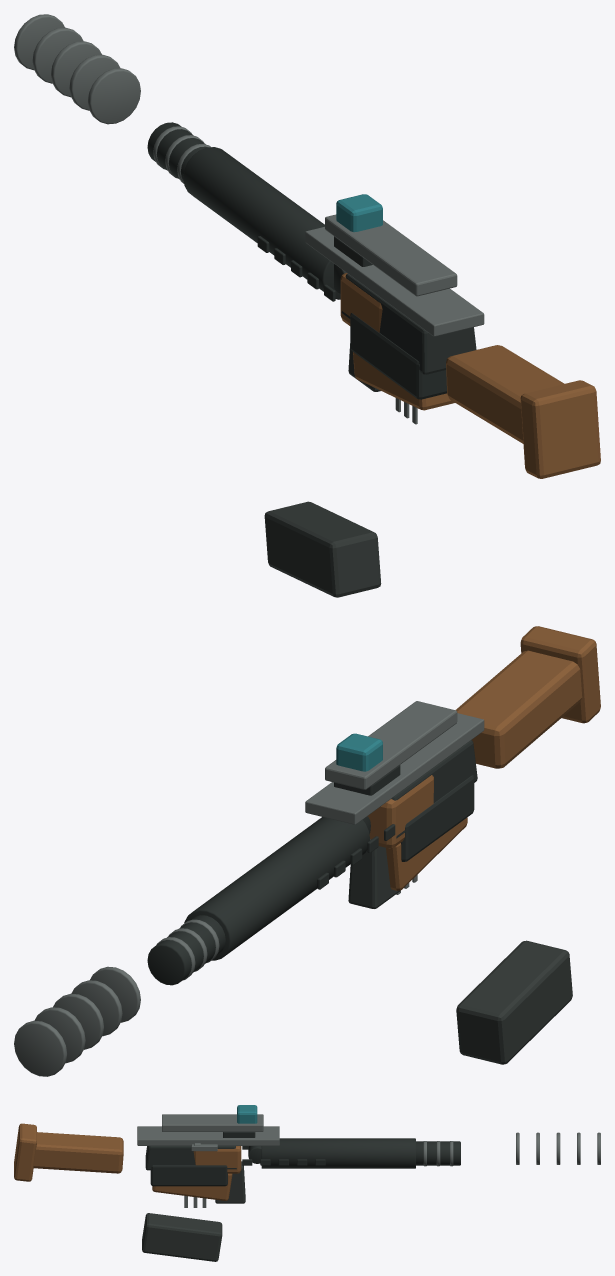
File: vss.glb
3 views of the same model, one above another, from view 1: azimuth 30°, elevation 25°; view 2: azimuth 150°, elevation 25°; view 3: azimuth 270°, elevation 25° (orthographic). The views are drawn at different scales.
Visible parts, largest first — view 1: Barrel, SpareMagazineBody, StockButt, StockBody, TopRail, VSSUpperRail, UpperReceiver, LowerReceiver, SuppressorBaffle_0, MagazineBody, SuppressorBody, OpticGlass (+5 smaller); view 2: SpareMagazineBody, Barrel, StockBody, TopRail, VSSUpperRail, StockButt, SuppressorBody, LowerReceiver, SuppressorBaffle_4, Handguard, ForegripBody, UpperReceiver (+6 smaller); view 3: Barrel, StockBody, SpareMagazineBody, TopRail, LowerReceiver, VSSUpperRail, StockButt, UpperReceiver, MagazineBody, SuppressorBody, Handguard, ForegripBody (+1 smaller).
Boxes of the visible parts, x1,y1,x2,y2 form: Barrel: [183, 147, 340, 299]; SpareMagazineBody: [264, 501, 381, 597]; StockButt: [520, 380, 600, 478]; StockBody: [446, 345, 564, 443]; TopRail: [305, 226, 484, 336]; VSSUpperRail: [325, 214, 457, 296]; UpperReceiver: [341, 273, 476, 374]; LowerReceiver: [350, 313, 446, 399]; SuppressorBaffle_0: [87, 68, 140, 124]; MagazineBody: [353, 352, 454, 410]; SuppressorBody: [147, 122, 207, 180]; OpticGlass: [336, 194, 382, 232]; SpareMagazineBody: [456, 940, 572, 1064]; Barrel: [184, 817, 369, 960]; StockBody: [455, 650, 582, 768]; TopRail: [305, 713, 484, 824]; VSSUpperRail: [325, 701, 457, 789]; StockButt: [520, 626, 600, 723]; SuppressorBody: [147, 915, 225, 985]; LowerReceiver: [401, 775, 474, 861]; SuppressorBaffle_4: [14, 1020, 67, 1076]; Handguard: [367, 775, 433, 848]; ForegripBody: [348, 839, 400, 908]; UpperReceiver: [391, 740, 477, 838]; Barrel: [261, 1138, 415, 1168]; StockBody: [33, 1132, 123, 1173]; SpareMagazineBody: [142, 1213, 222, 1261]; TopRail: [137, 1126, 279, 1145]; LowerReceiver: [150, 1165, 227, 1186]; VSSUpperRail: [162, 1114, 263, 1131]; StockButt: [14, 1123, 36, 1181]; UpperReceiver: [145, 1146, 236, 1170]; MagazineBody: [152, 1173, 232, 1200]; SuppressorBody: [416, 1141, 460, 1165]; Handguard: [193, 1146, 241, 1173]; ForegripBody: [215, 1161, 245, 1203].
Size of the model in its own units: 0.4826 by 0.9437 by 2.89.
